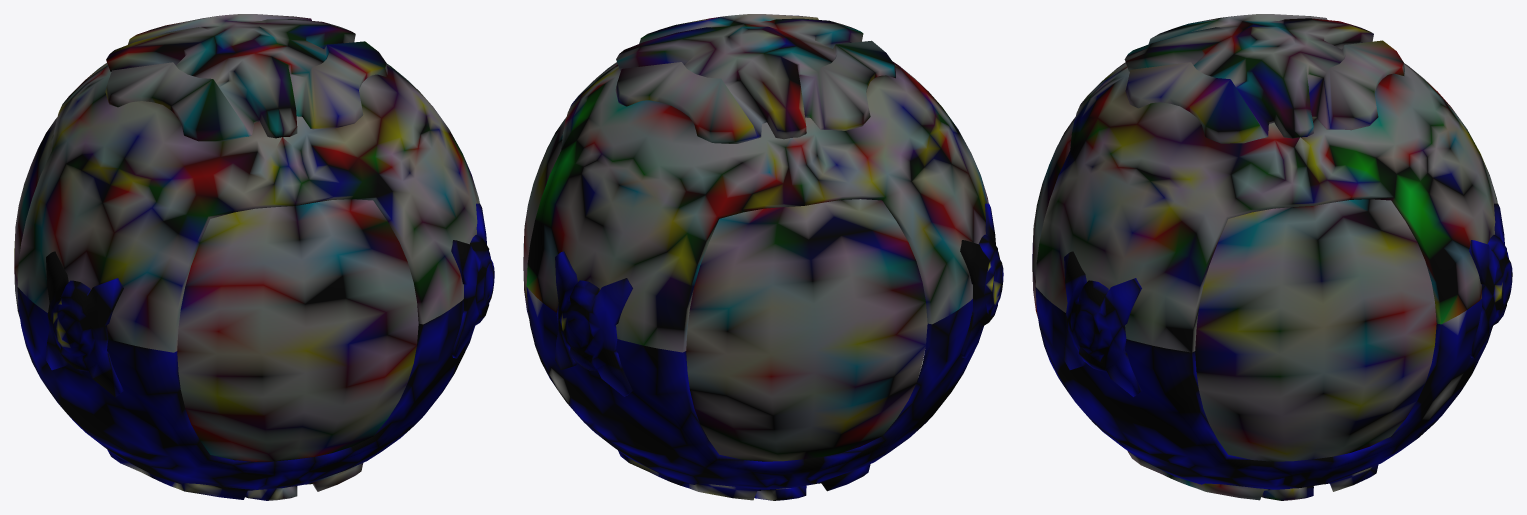
The model's file is Ball_DefaultBall00.gltf.
3 renders of one model, left to right at view 1: azimuth 30°, elevation 25°; view 2: azimuth 150°, elevation 25°; view 3: azimuth 270°, elevation 25°, orthographic.
Parts seen in each view (by area): view 1: Ball_DefaultBall00; view 2: Ball_DefaultBall00; view 3: Ball_DefaultBall00.
Part boxes in pixels (left/top/right/bottom): Ball_DefaultBall00: left=14, top=14, right=494, bottom=500; Ball_DefaultBall00: left=523, top=14, right=1003, bottom=500; Ball_DefaultBall00: left=1032, top=14, right=1512, bottom=500.
Size of the model in its own units: 1.85 by 1.89 by 1.85.
